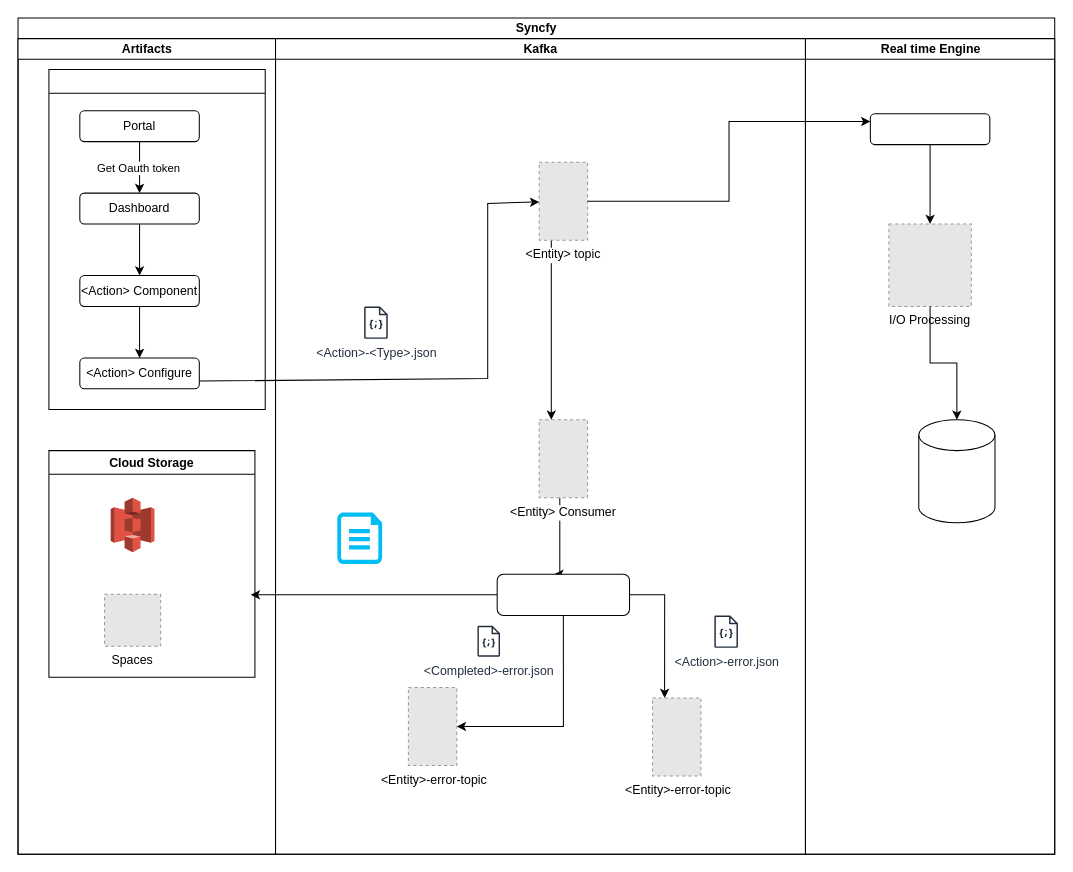
This 1073x872 diagram has some shape labels left out. Grey dashed boxes stand in for pictures. The shapes that lost their labels are listed below. From the top down, each one's centre as x and y in pixels, then its label:
At pixel 929 129: "<I/O> Type".
At pixel 156 238: "Agent".
At pixel 956 471: "Persist <Entity>/ <Action> Metadata".
At pixel 132 524: "S3 Storage".
At pixel 359 537: "<Entity>file".
At pixel 563 594: "Upload Engine".
